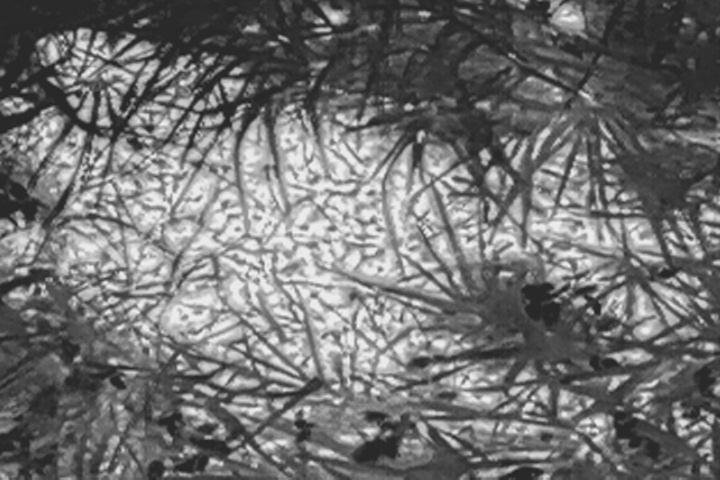landmine: (155, 134, 412, 331)
